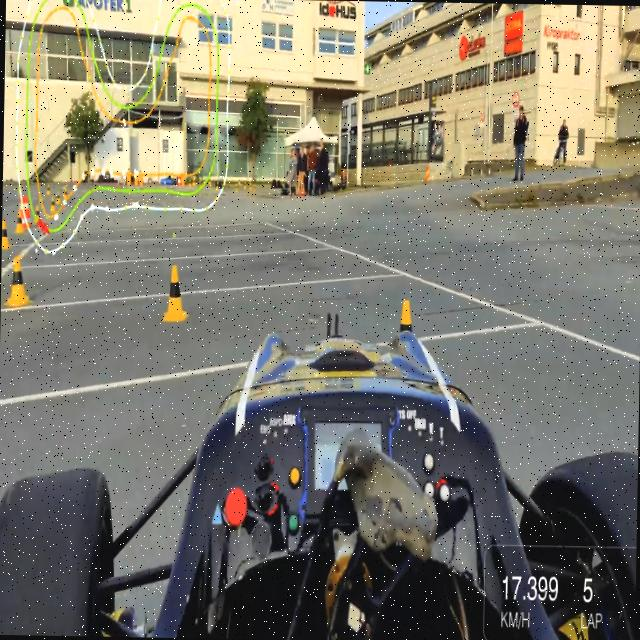yellow_cone: (390, 298, 423, 398), (162, 263, 188, 323), (6, 257, 29, 307), (1, 220, 10, 249), (14, 208, 24, 232)
